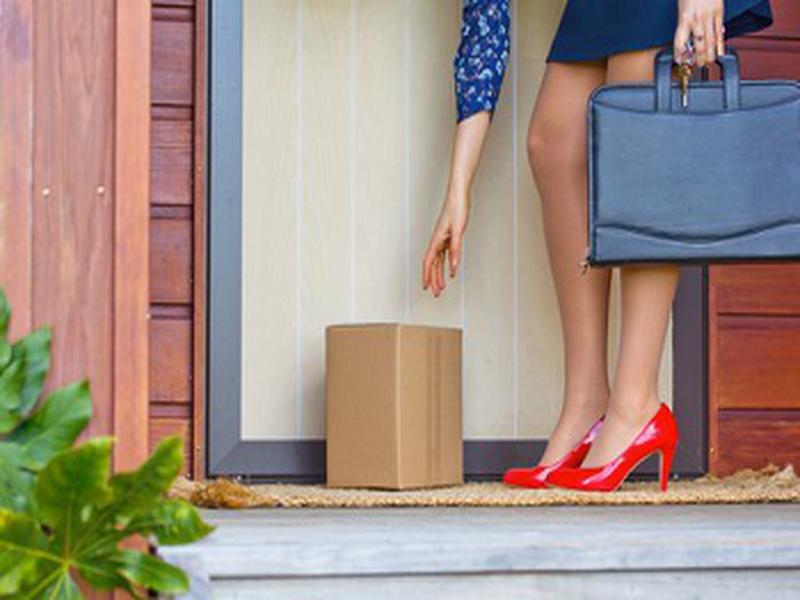package: (313, 307, 476, 495)
